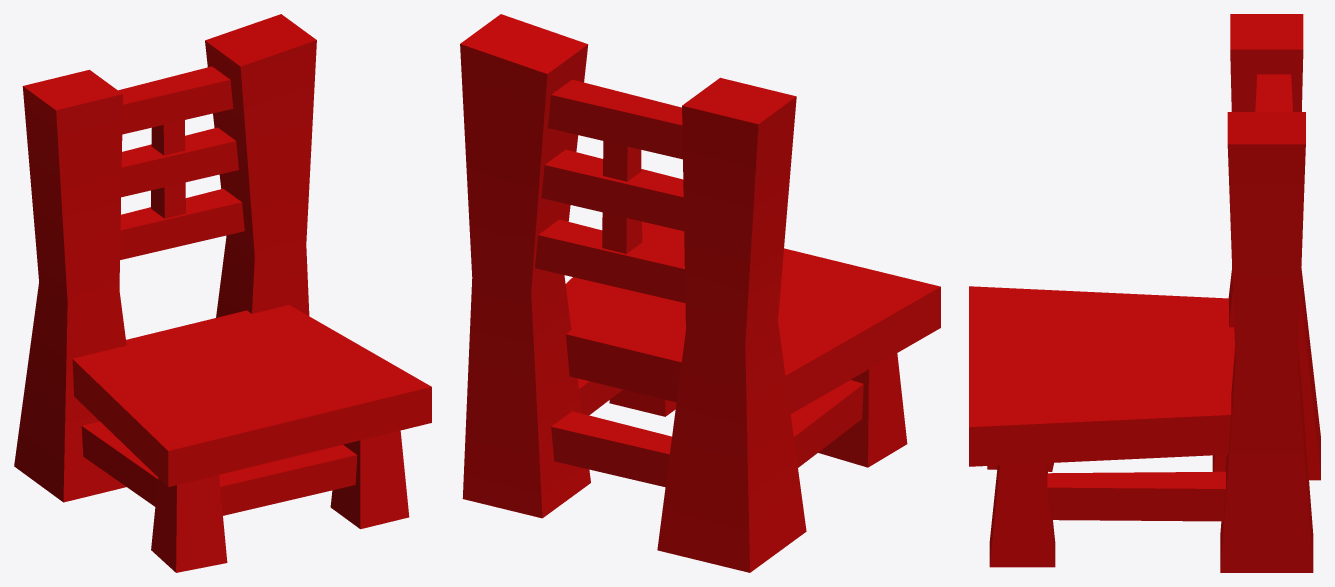
Rendered from Chair_SM_Final.fbx.
The picture shows the model from 3 angles, left to right: view 1: azimuth 30°, elevation 25°; view 2: azimuth 150°, elevation 25°; view 3: azimuth 270°, elevation 25°; orthographic projection. The views are drawn at different scales.
Parts seen in each view (by area): view 1: Chair; view 2: Chair; view 3: Chair.
Part boxes in pixels (bbox=[...]): Chair: bbox=[14, 14, 431, 572]; Chair: bbox=[460, 14, 940, 572]; Chair: bbox=[969, 14, 1320, 572].
Bounding box in the file's own units: 35.63 × 50.3 × 37.16.
